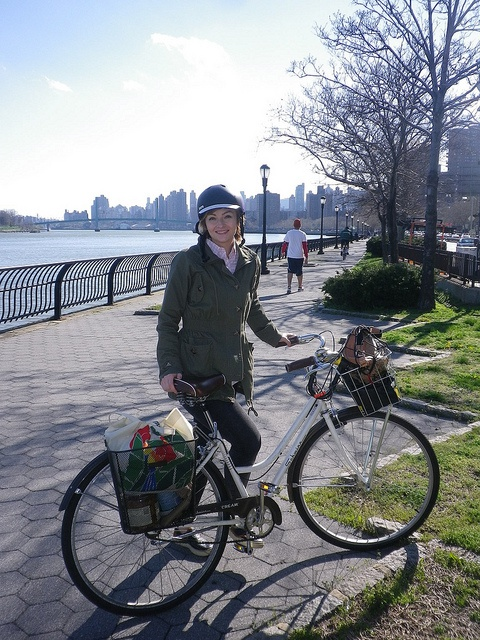non-vehicle: (65, 327, 441, 610), (342, 241, 348, 260)
